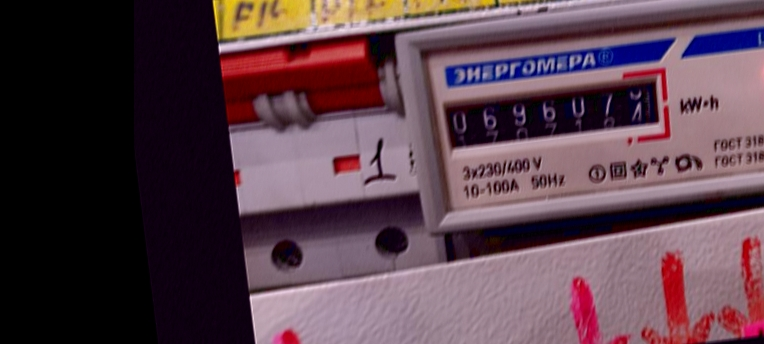0: (450, 108, 470, 134), (569, 92, 587, 118)
4: (627, 99, 646, 125)
6: (539, 96, 559, 122), (480, 105, 500, 130)
7: (599, 90, 617, 118)
9: (510, 101, 528, 127)
screen: (429, 61, 678, 164)
